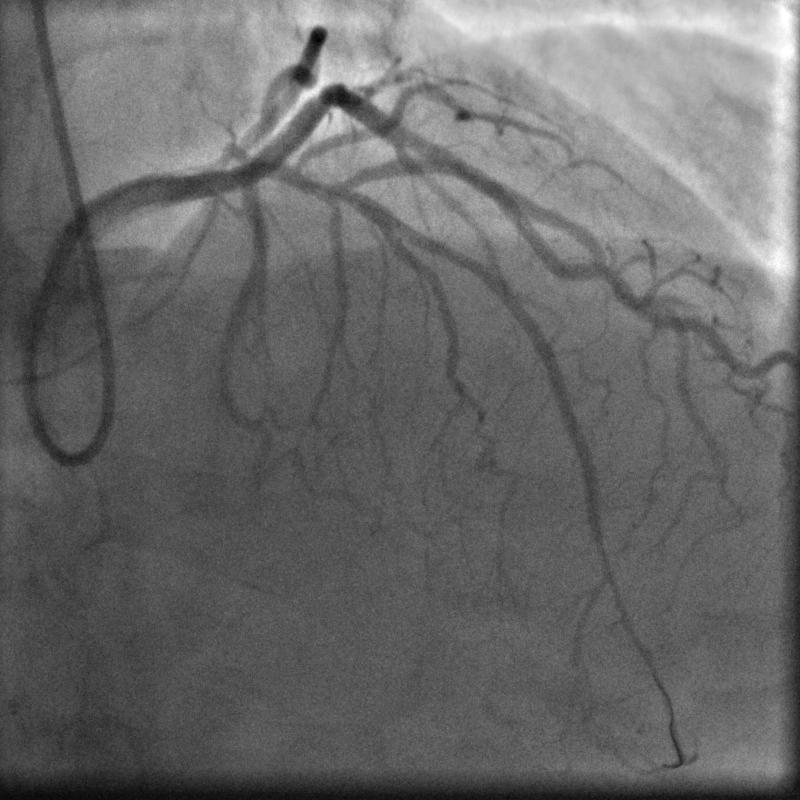Stenosis: (450, 155, 495, 196)
